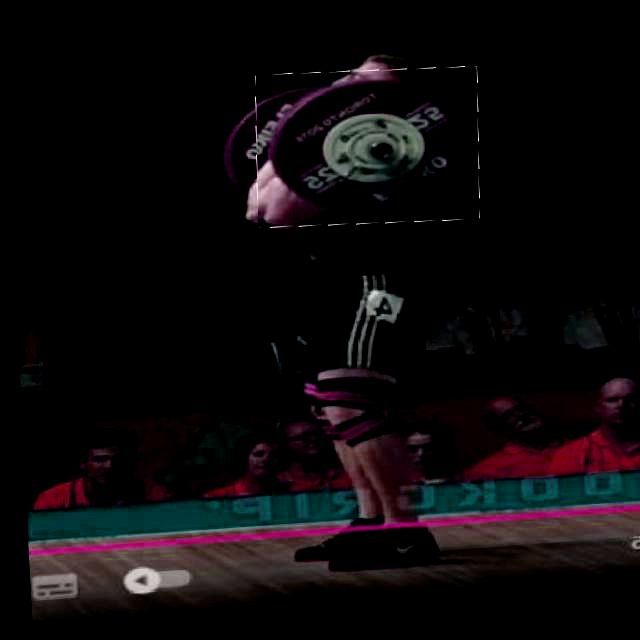barbell: (252, 70, 482, 238)
